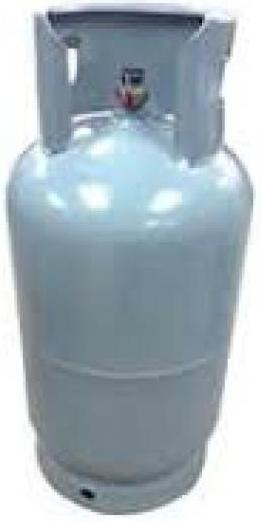cylinder: (1, 0, 261, 522)
